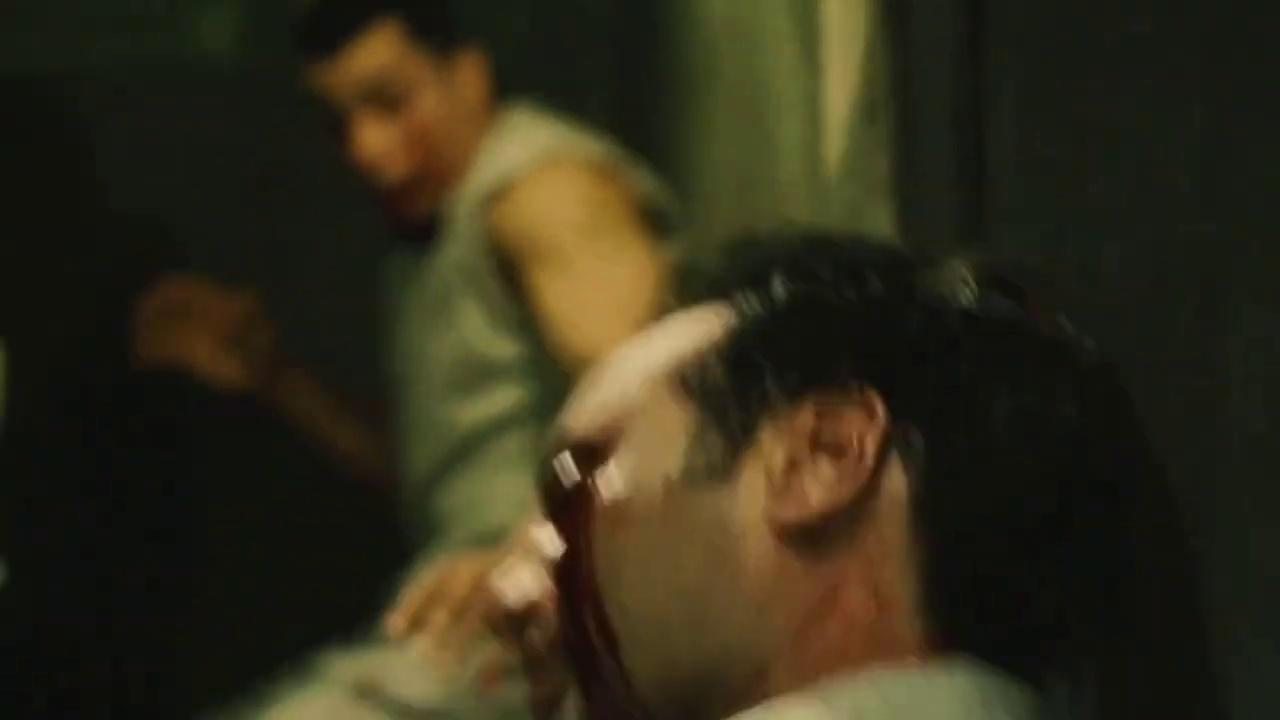Fire: (540, 439, 650, 720)
